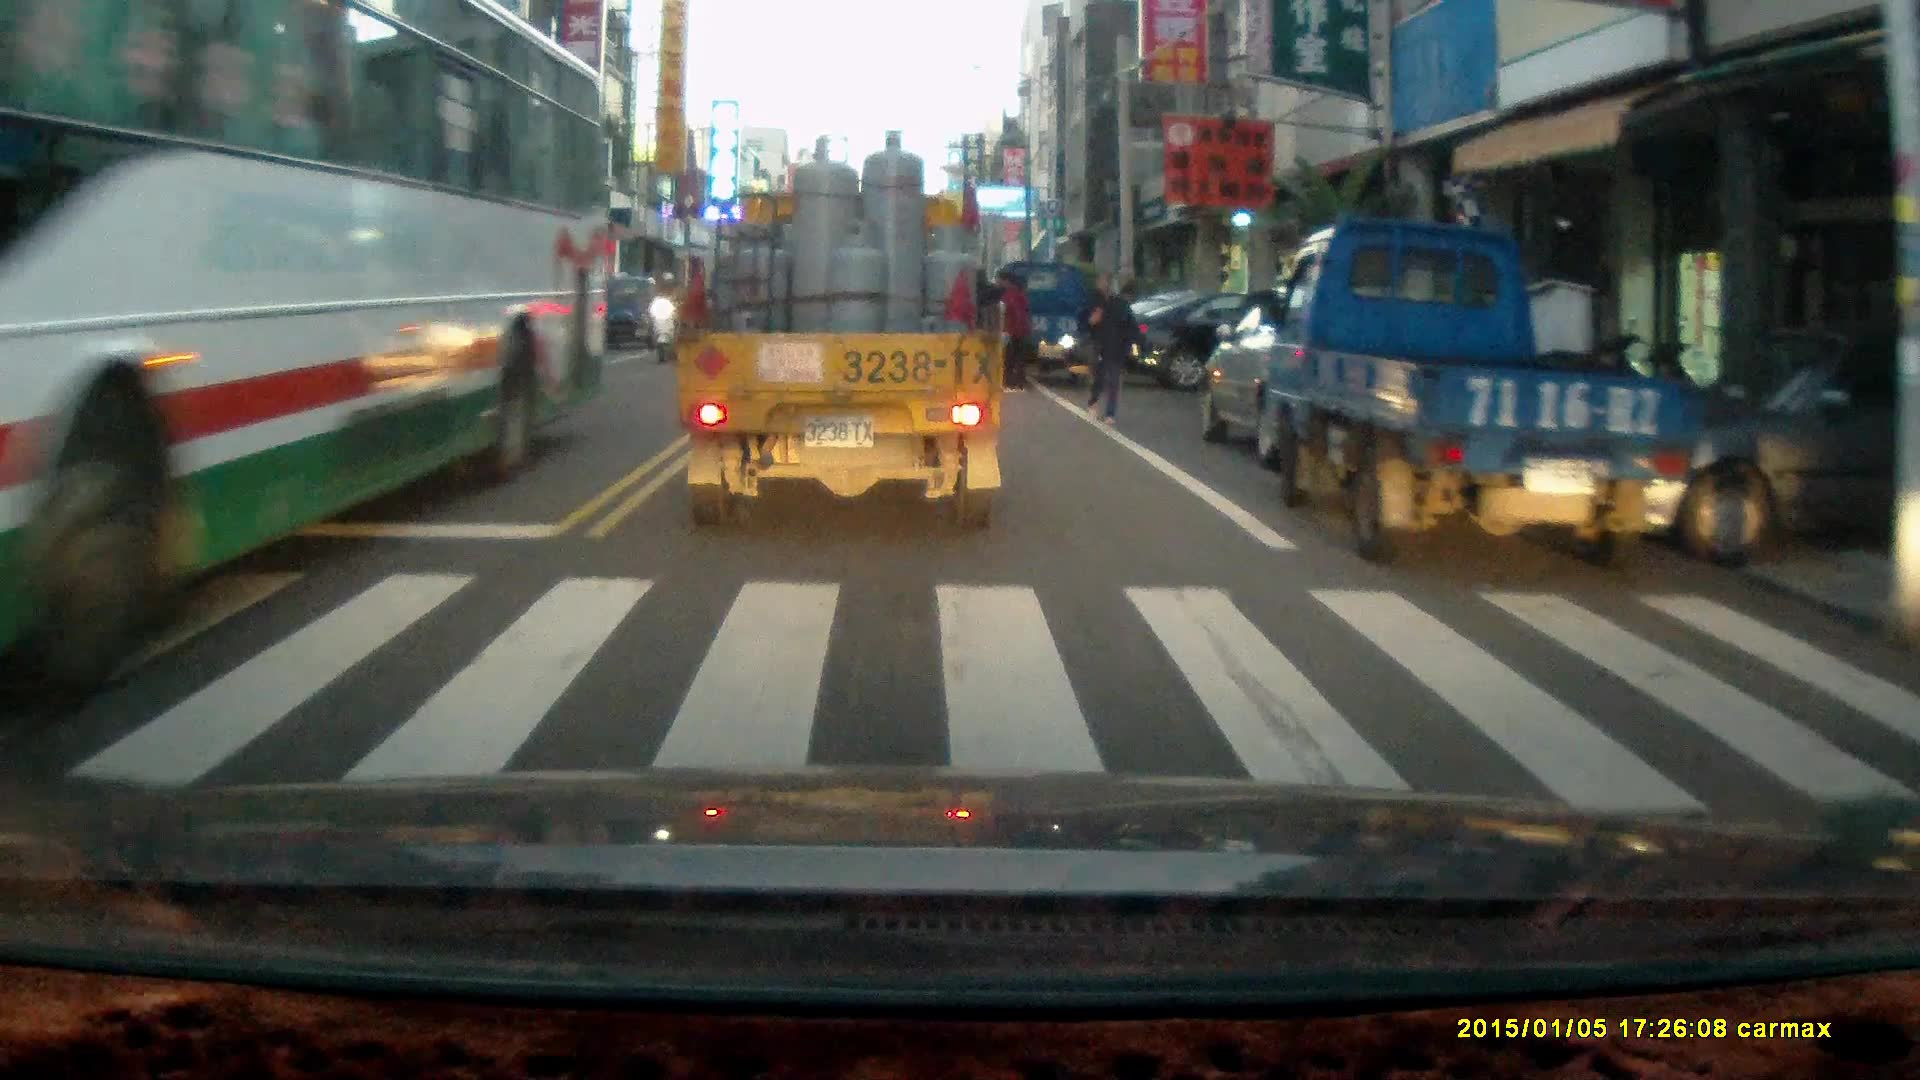pedestrian: (1076, 270, 1143, 424), (995, 269, 1031, 394)
rider: (648, 271, 687, 367)
vehicle: (1, 13, 614, 677), (1254, 215, 1690, 570), (674, 129, 1011, 536), (1196, 281, 1477, 475), (1124, 279, 1366, 395), (988, 260, 1113, 390), (471, 282, 594, 373)
